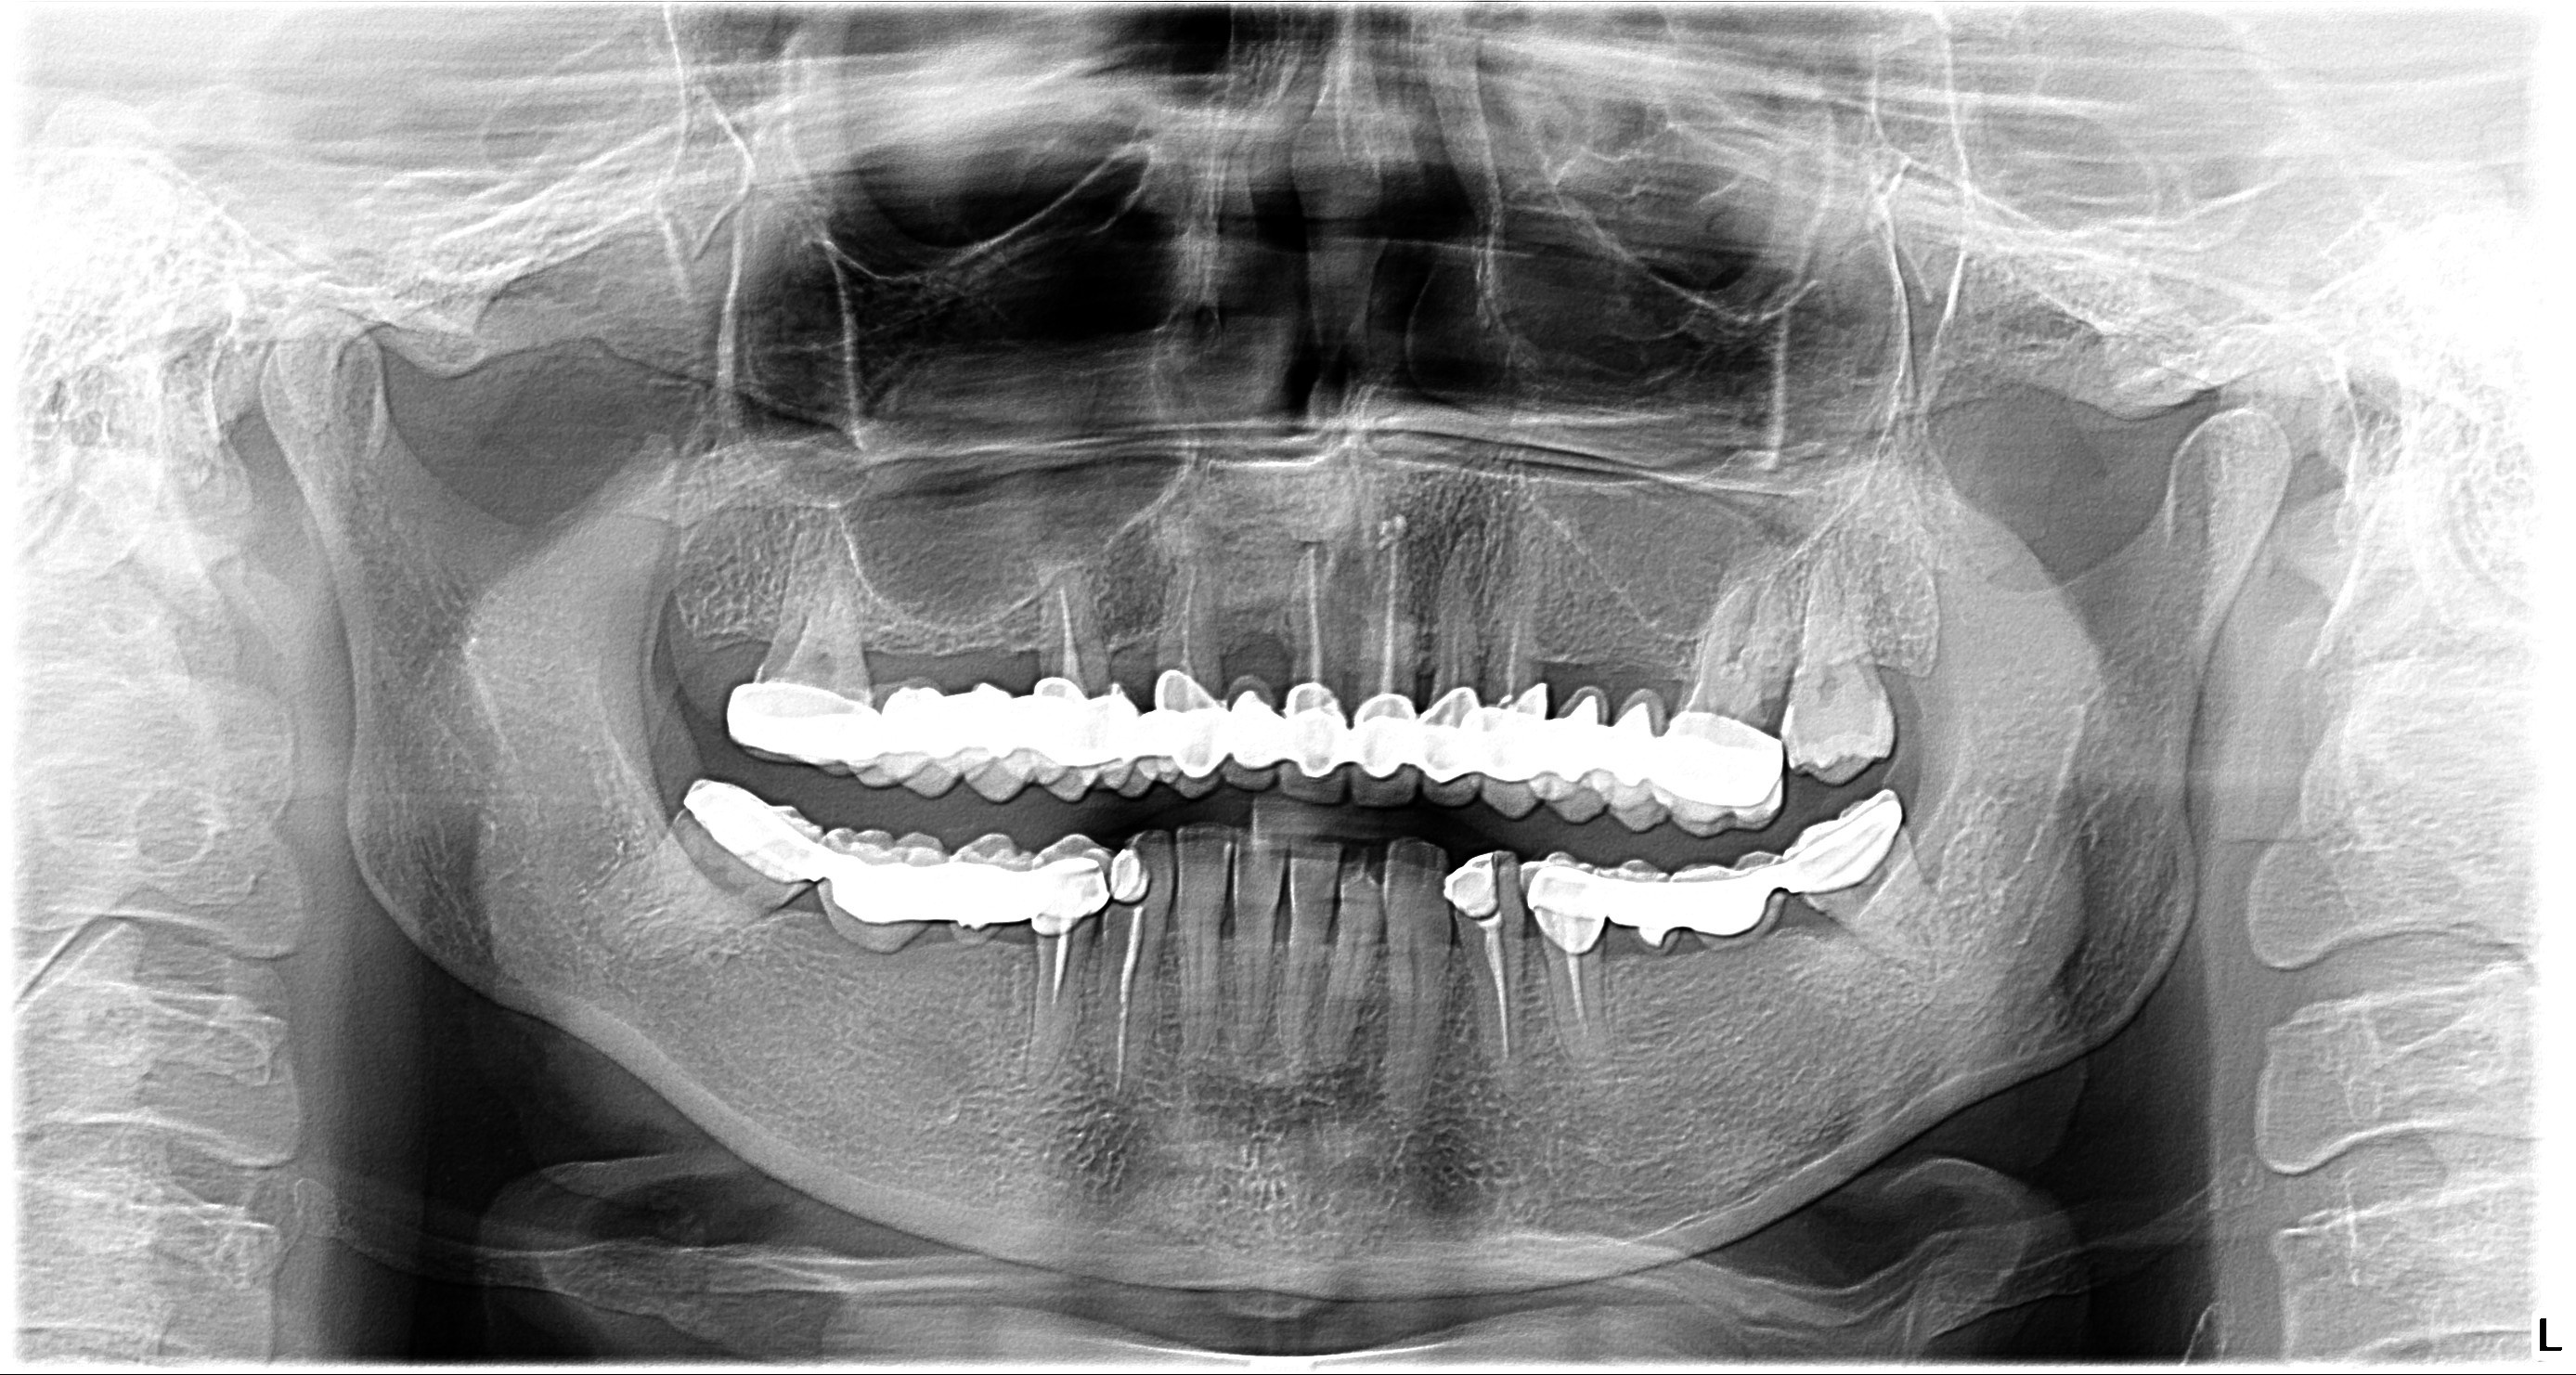END: (1101, 906, 1145, 1099), (1046, 579, 1090, 690), (1174, 561, 1208, 690), (1380, 528, 1402, 697), (1482, 920, 1508, 1060), (1561, 922, 1590, 1043), (1305, 547, 1327, 685), (1043, 918, 1075, 1012), (1499, 613, 1530, 702), (1440, 605, 1469, 695)
IMT: (862, 646, 1041, 682), (1538, 659, 1687, 697), (1227, 629, 1300, 676), (1787, 910, 1840, 942), (1113, 647, 1157, 682), (1276, 900, 1297, 946)
OBT: (726, 680, 1779, 813), (671, 782, 1109, 918), (1535, 828, 1915, 929)
PRR: (1446, 854, 1501, 920), (1104, 847, 1155, 900)
